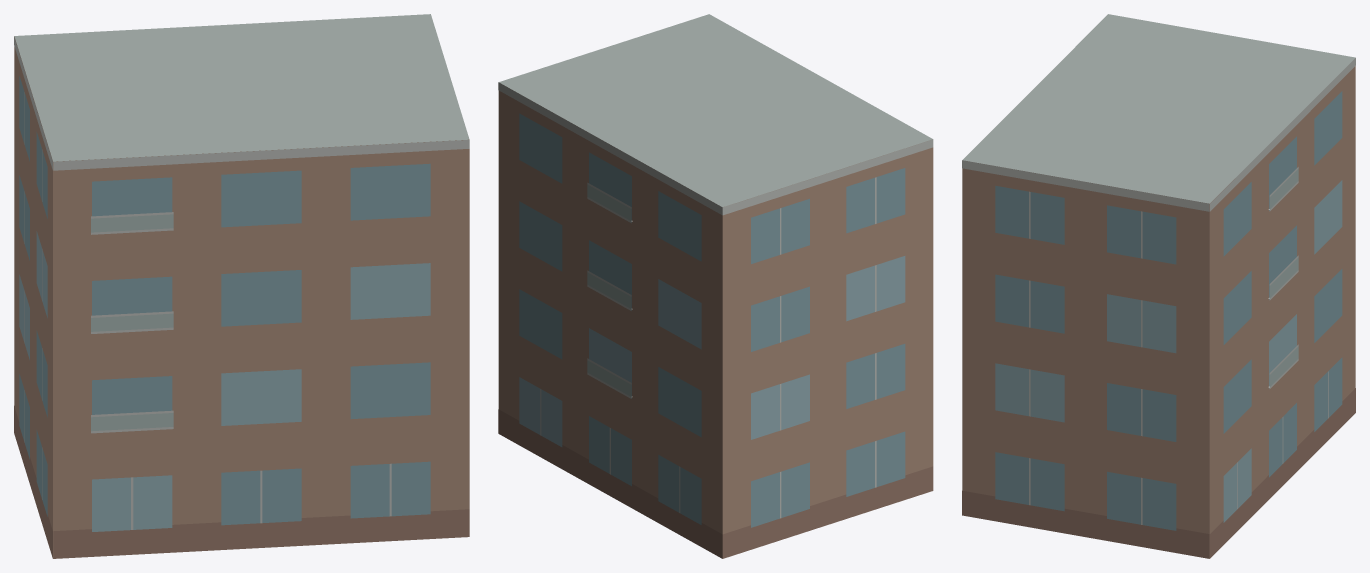
The model's file is survey-upis-32599355.glb.
The picture shows the model from 3 angles, left to right: view 1: azimuth 30°, elevation 25°; view 2: azimuth 150°, elevation 25°; view 3: azimuth 270°, elevation 25°; orthographic projection. The views are drawn at different scales.
Parts seen in each view (by area): view 1: survey-upis-32599355.tmp; view 2: survey-upis-32599355.tmp; view 3: survey-upis-32599355.tmp.
Boxes of the visible parts, x1,y1,x2,y2 form: survey-upis-32599355.tmp: (14,14,469,558); survey-upis-32599355.tmp: (498,14,933,558); survey-upis-32599355.tmp: (962,14,1355,558).
Size of the model in its own units: 12.15 by 10.6 by 10.66.
